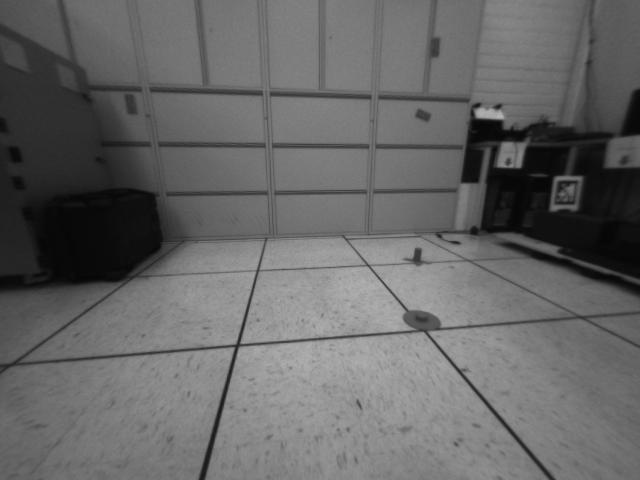X: (402, 247, 429, 265)
